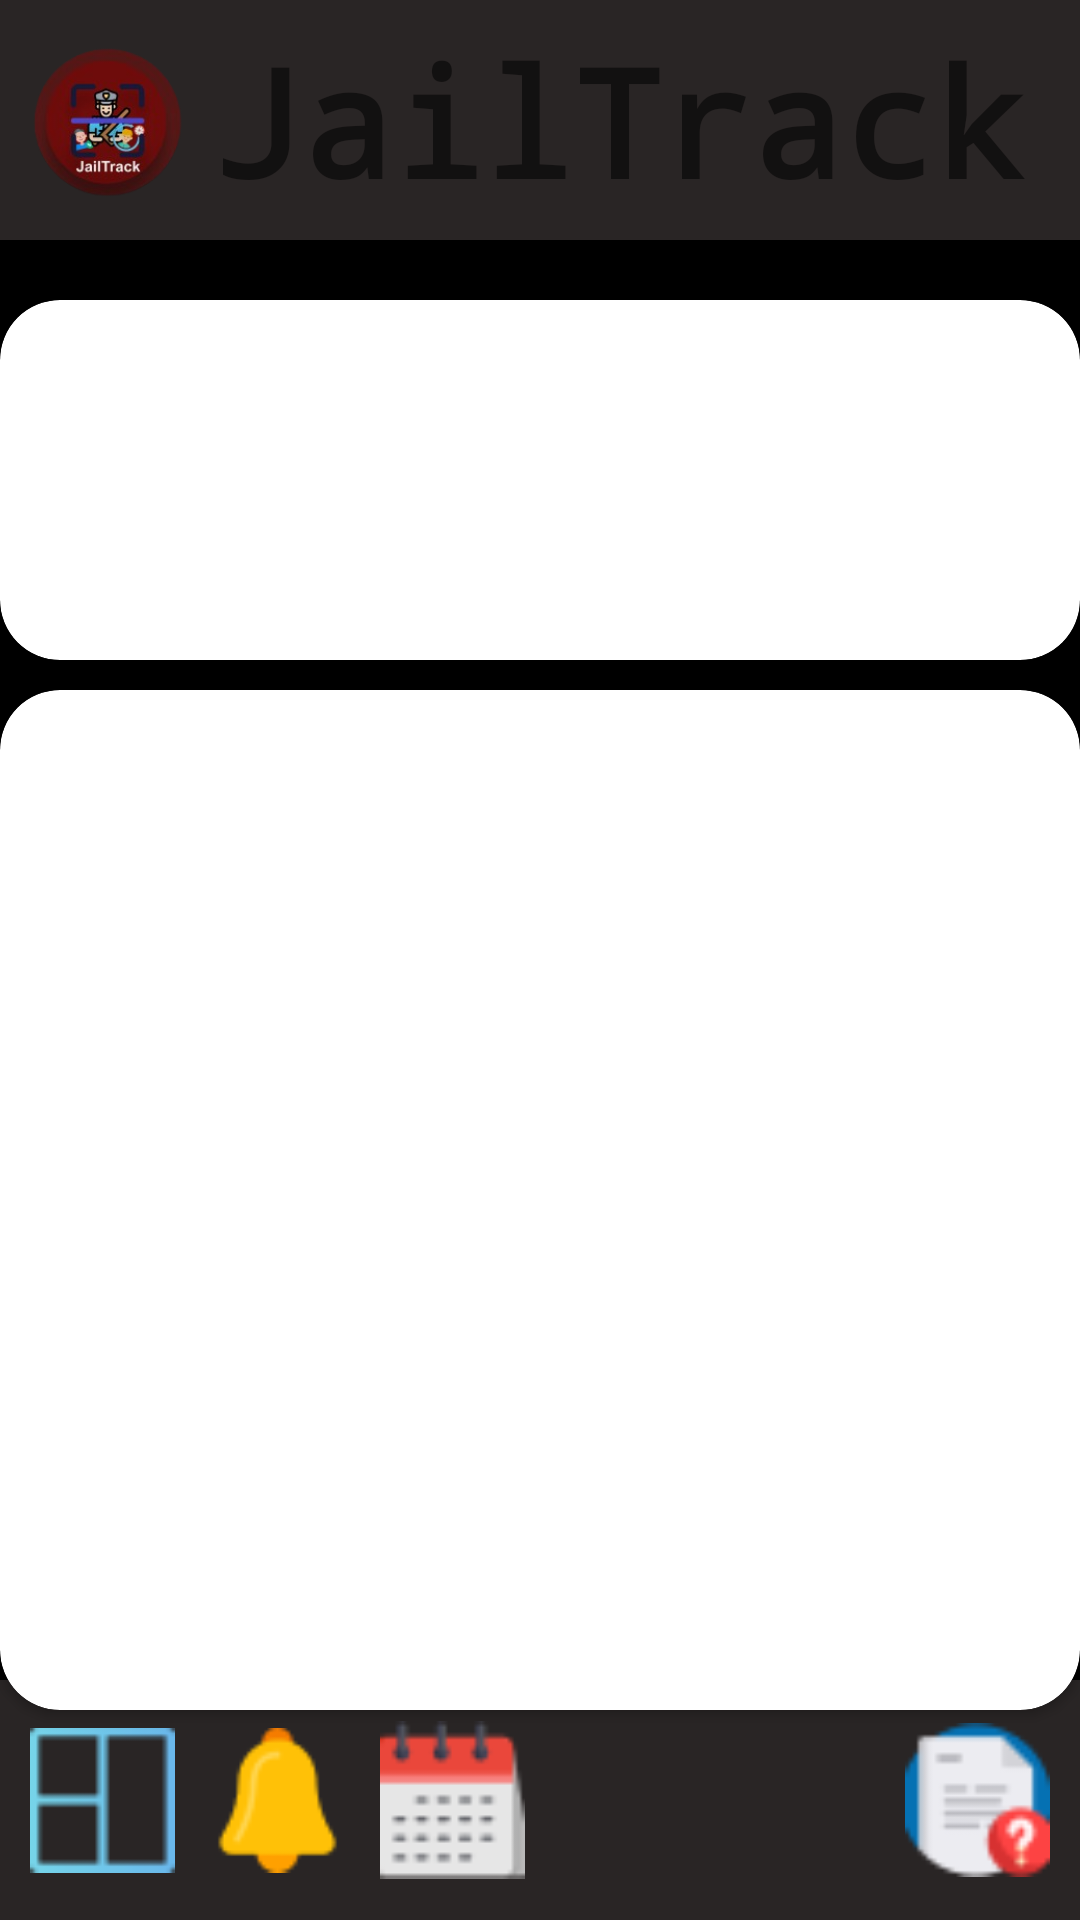

Point at icon controls on the screen. Image size 1080w x 1920h, points as (x,y).
navigation homepage: (102,1800)
navigation notification: (277,1800)
navigation notification request: (977,1800)
navigation schedule: (452,1801)
